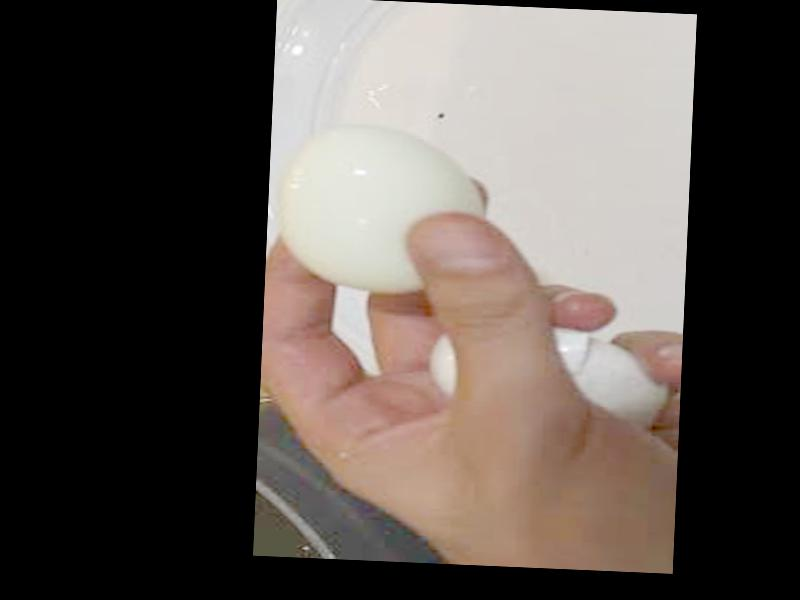Eggs: (267, 125, 490, 296)
